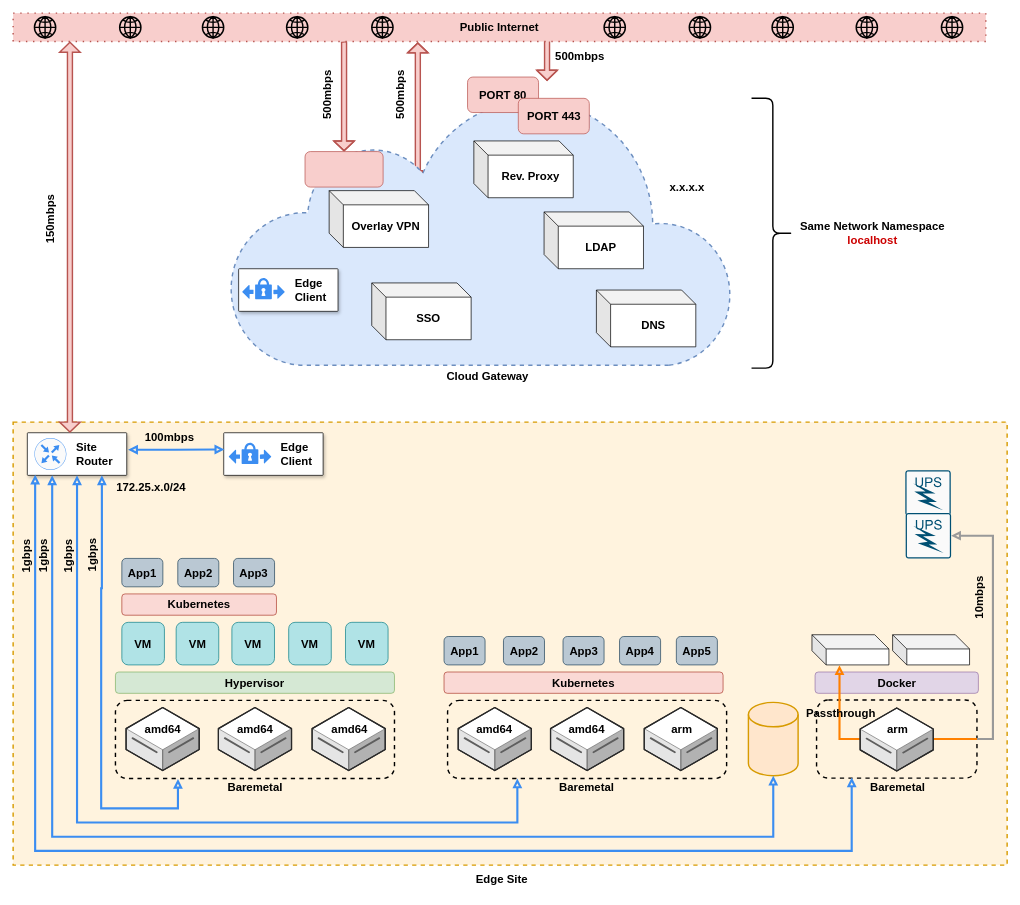
Some shapes in this 1020 by 905 pixel diagram are drawn without their labels. Each missing label, with the centre of its shape:
"NAS" goes at pixel 772 738.
"NUT" goes at pixel 850 649.
"PORT 51820" goes at pixel 343 169.
"Site Mon" goes at pixel 931 649.
